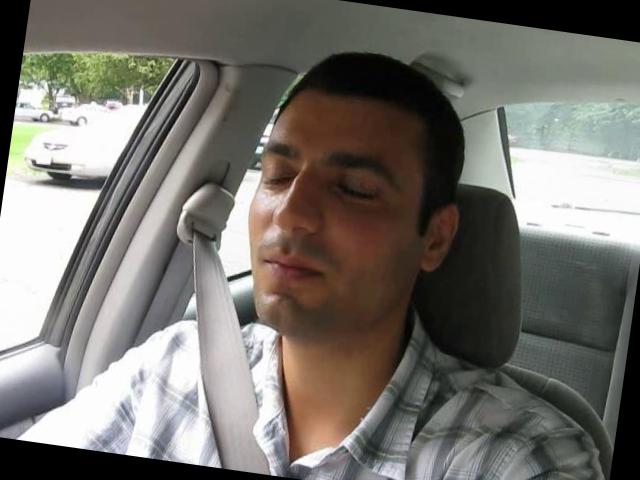eye_closed: (324, 174, 386, 215), (256, 161, 299, 196)
face: (227, 112, 416, 350)
